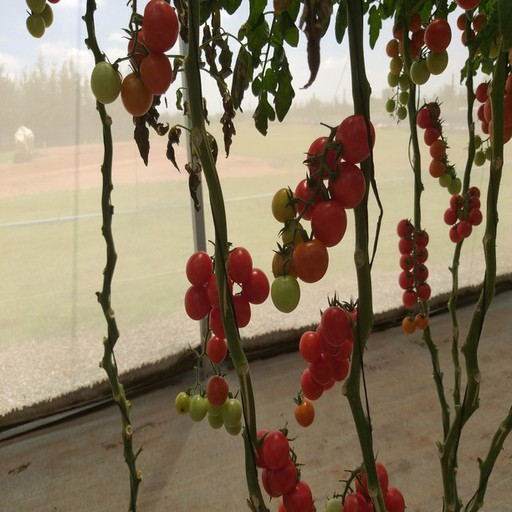green tomato bunch: (176, 374, 241, 437)
mixed tomato bunch: (92, 1, 178, 114), (385, 11, 426, 119), (416, 100, 461, 193)
red tomato bunch: (276, 117, 373, 310), (186, 249, 269, 362), (295, 307, 362, 424), (255, 427, 319, 512), (397, 221, 430, 334), (341, 459, 406, 512), (444, 187, 482, 240)
